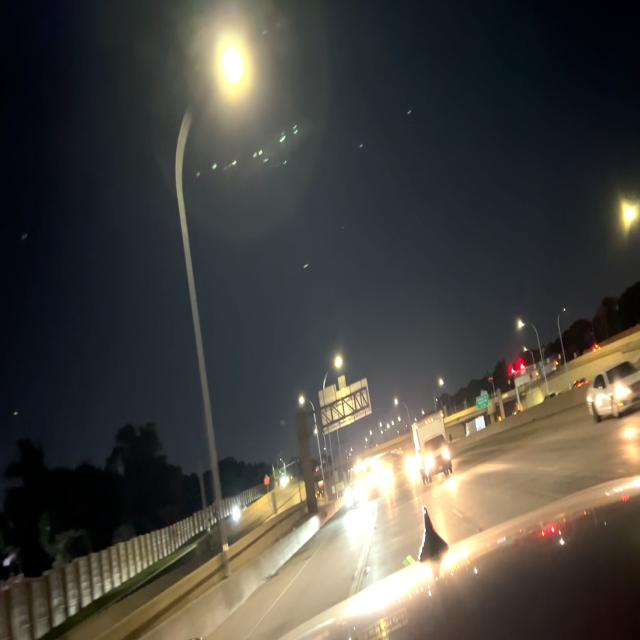back-of-sign: (318, 376, 372, 435)
